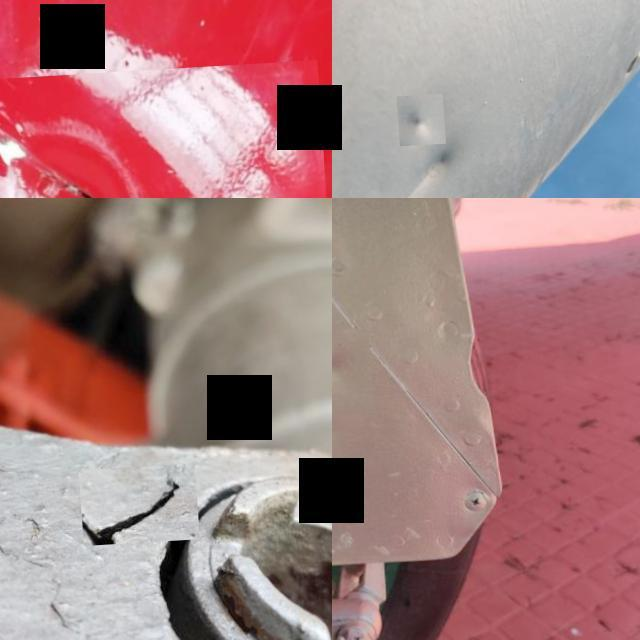Crack: (0, 67, 328, 198), (74, 468, 194, 549)
Dent: (371, 136, 465, 198), (332, 332, 369, 420), (394, 99, 442, 151)
